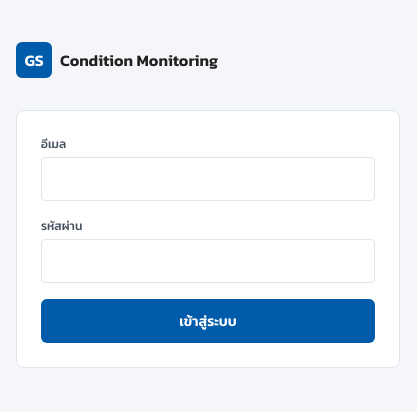
Test: Login › AC-001-02 · รหัสผิด → แสดงข้อความจากเซิร์ฟเวอร์ ไม่บอกว่า email มีจริงไหม
Type "a@b.c" into the field labelled "อีเมล" at point(208, 179), box [41,157,375,201]
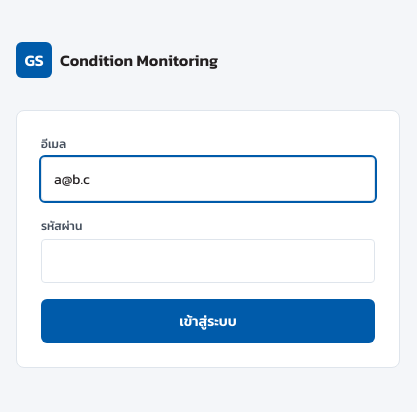
Type "x" into the password field labelled "รหัสผ่าน" at point(208, 261), box [41,239,375,283]
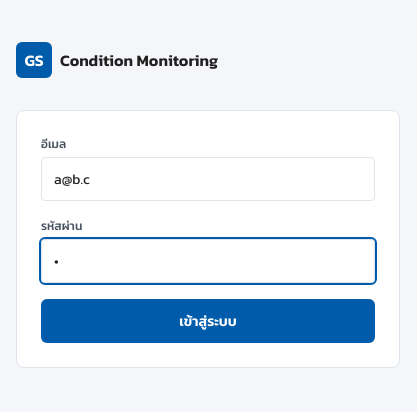
Click the button "เข้าสู่ระบบ" at point(208, 321), box [41,299,375,343]
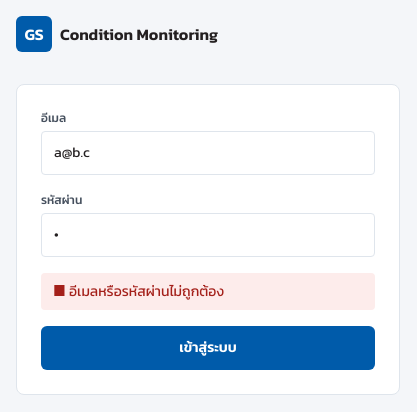
Check: the message shows "อีเมลหรือรหัสผ่านไม่ถูกต้อง", box [69,280,224,302]
